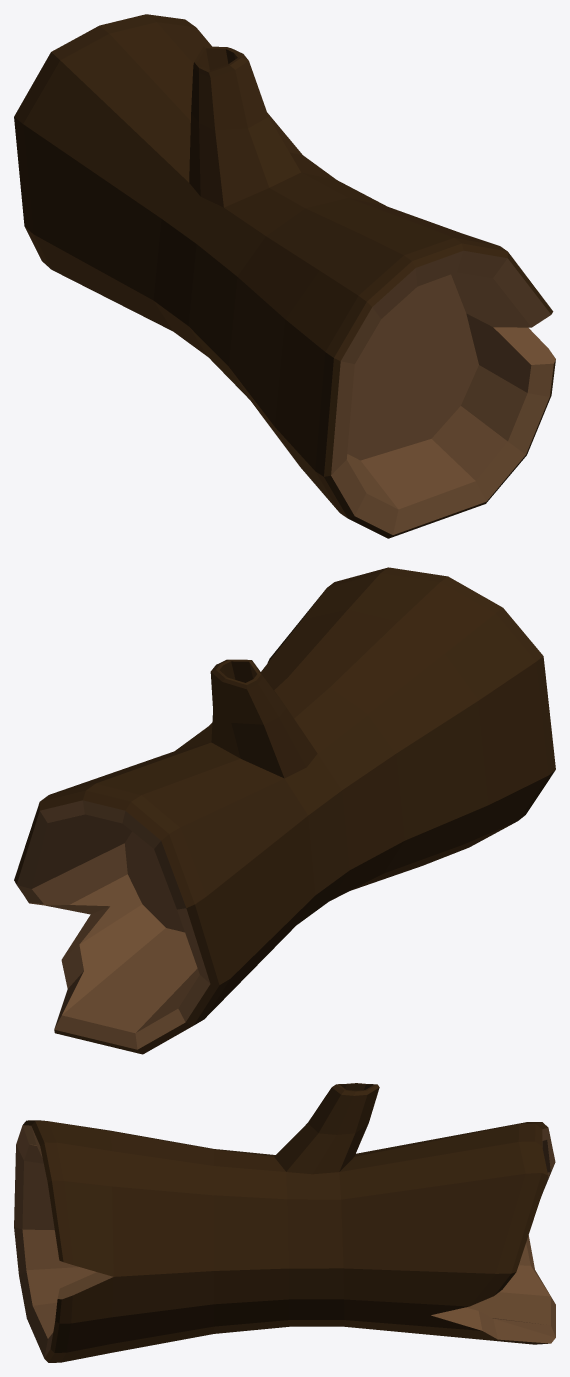
Rendered from kutuk.fbx.
3 views of the same model, one above another, from view 1: azimuth 30°, elevation 25°; view 2: azimuth 150°, elevation 25°; view 3: azimuth 270°, elevation 25° (orthographic). The views are drawn at different scales.
Parts seen in each view (by area): view 1: Cylinder; view 2: Cylinder; view 3: Cylinder.
Part boxes in pixels (x1=…): Cylinder: x1=14, y1=14, x2=555, y2=538; Cylinder: x1=14, y1=567, x2=555, y2=1054; Cylinder: x1=14, y1=1083, x2=555, y2=1362.
Bounding box in the file's own units: 251 × 295 × 577.
